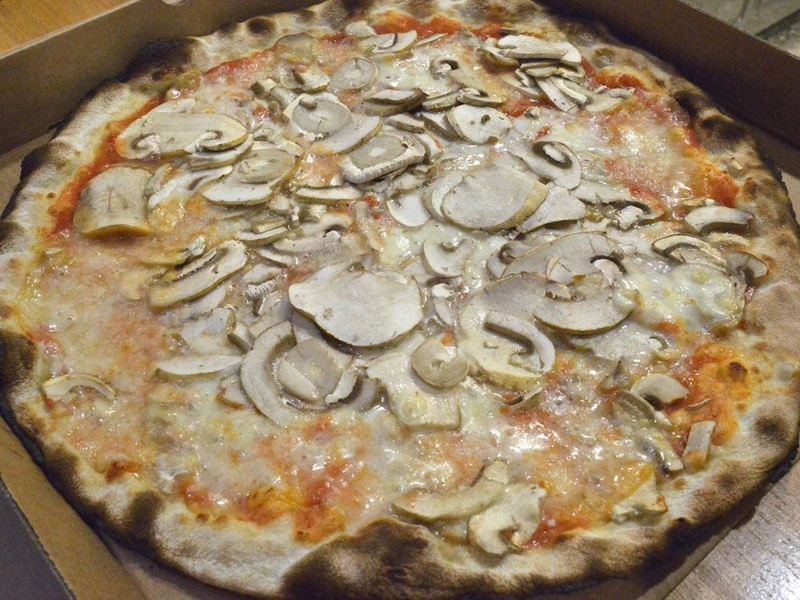champignon: (112, 104, 254, 168)
